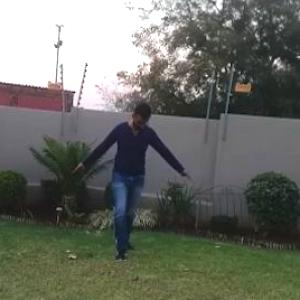land: (75, 100, 201, 266)
